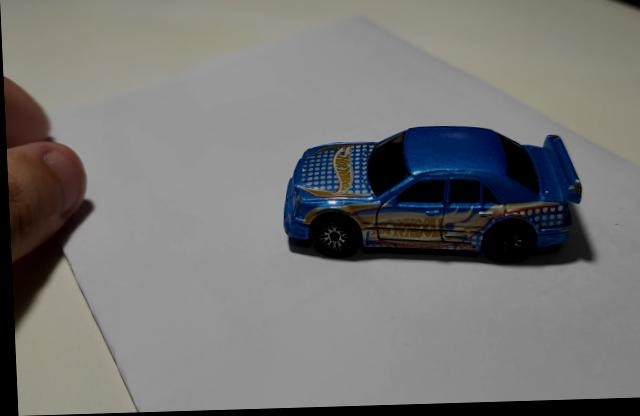04_MERZEDES: (281, 129, 579, 268)
